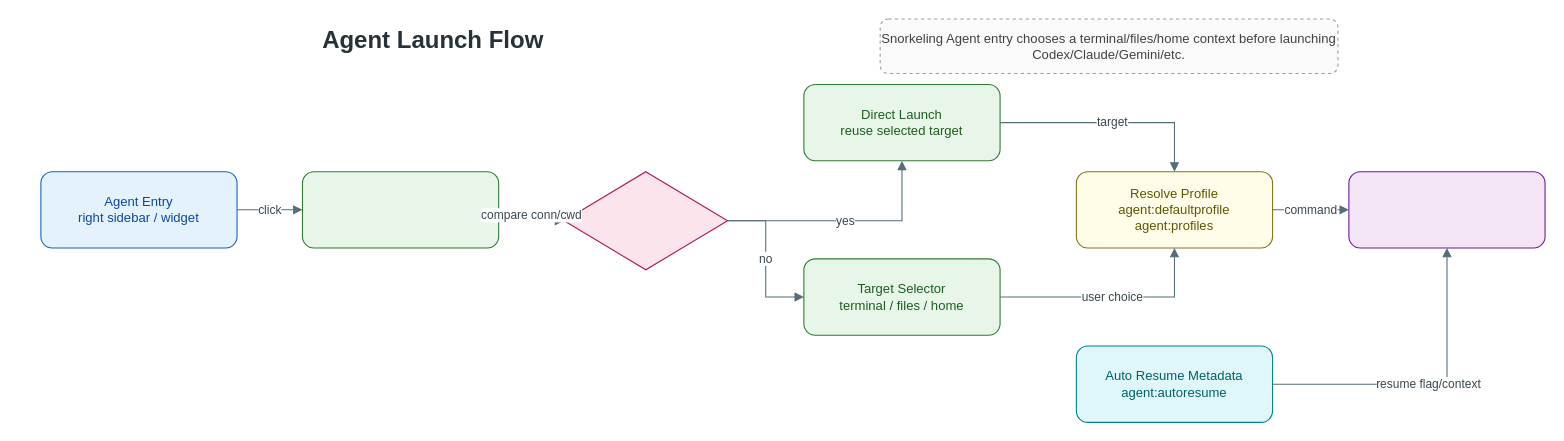
This 1564x441 diagram has some shape labels left out. Here are the shapes that lost their labels. From the top down, the centre of each, then its label:
the point at 400,209: Collect Focused Context terminal + Files path
the point at 645,220: Context Matches?
the point at 1446,209: Create Terminal Block agent command + env
